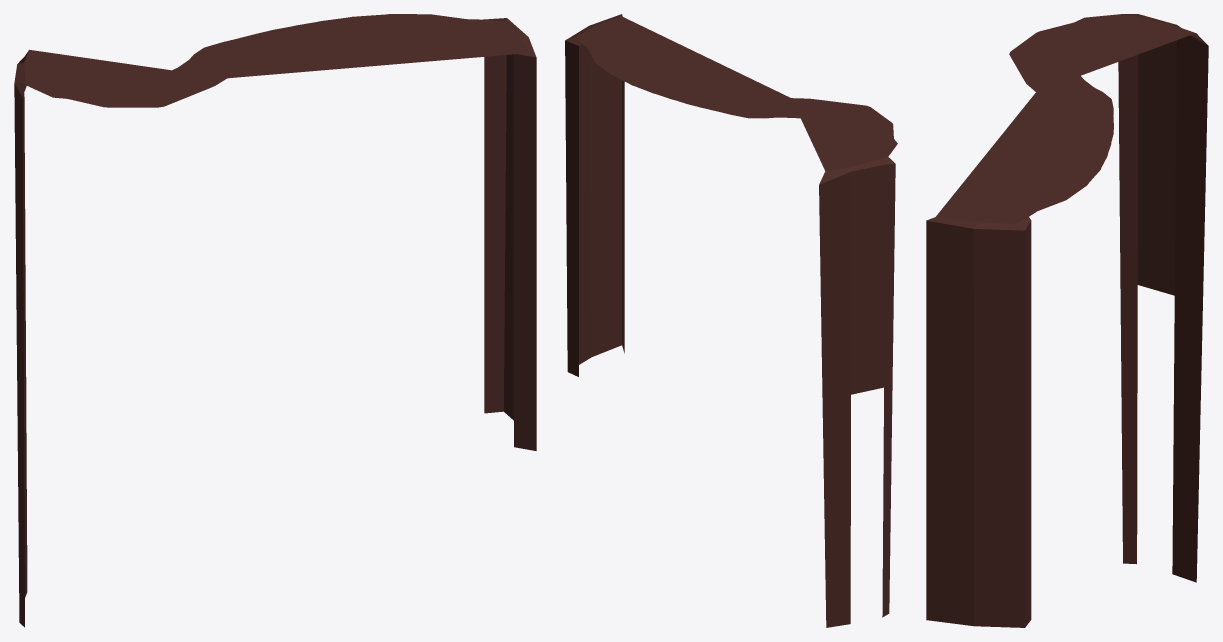
File: my schemaWATER.fbx
The picture shows the model from 3 angles, left to right: view 1: azimuth 30°, elevation 25°; view 2: azimuth 150°, elevation 25°; view 3: azimuth 270°, elevation 25°; orthographic projection. The views are drawn at different scales.
Visible parts, largest first — view 1: Circle.002; view 2: Circle.002; view 3: Circle.002.
Part boxes in pixels (x1,y1,x2,y2): Circle.002: [14, 14, 536, 627]; Circle.002: [565, 14, 897, 627]; Circle.002: [926, 14, 1208, 627].
Size of the model in its own units: 7071 by 8349 by 3885.
